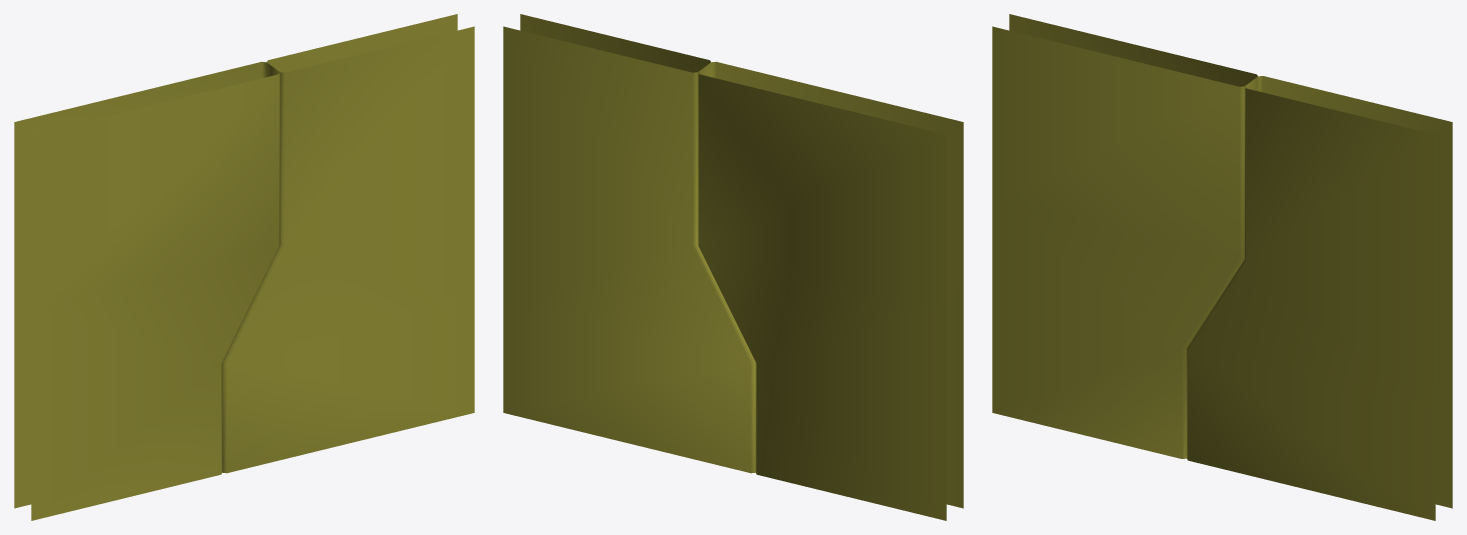
Rendered from SM_BasicDoor_E.fbx.
The picture shows the model from 3 angles, left to right: view 1: azimuth 30°, elevation 25°; view 2: azimuth 150°, elevation 25°; view 3: azimuth 330°, elevation 25°; orthographic projection.
Visible parts, largest first — view 1: SM_BasicDoor_E; view 2: SM_BasicDoor_E; view 3: SM_BasicDoor_E.
Boxes of the visible parts, box(x1,y1,x2,y2) form: SM_BasicDoor_E: box(14, 14, 474, 520); SM_BasicDoor_E: box(503, 14, 963, 520); SM_BasicDoor_E: box(992, 14, 1452, 520).
Size of the model in its own units: 300 by 20 by 250.
